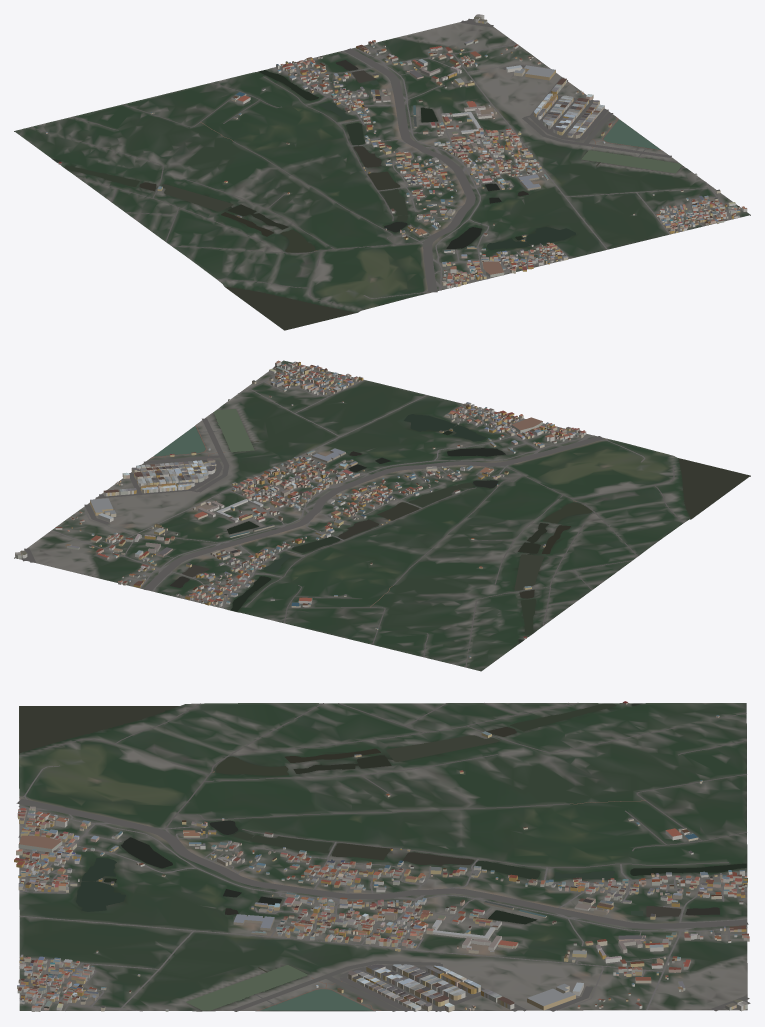
3 views of the same model, one above another, from view 1: azimuth 30°, elevation 25°; view 2: azimuth 150°, elevation 25°; view 3: azimuth 270°, elevation 25° (orthographic). The views are drawn at different scales.
Parts seen in each view (by area): view 1: ground, buildings, water, roads; view 2: ground, buildings, water, roads; view 3: ground, buildings, water, roads.
Boxes of the visible parts, x1,y1,x2,y2 form: ground: (14,19,750,330); buildings: (46,14,747,288); water: (53,60,683,329); roads: (29,18,741,305); ground: (14,360,750,671); buildings: (15,360,586,658); water: (153,409,749,642); roads: (22,365,683,667); ground: (19,703,747,1011); buildings: (14,701,749,1012); water: (19,703,746,1011); roads: (16,703,750,1011).
Bounding box in the file's own units: 1408 × 20.25 × 1419.
